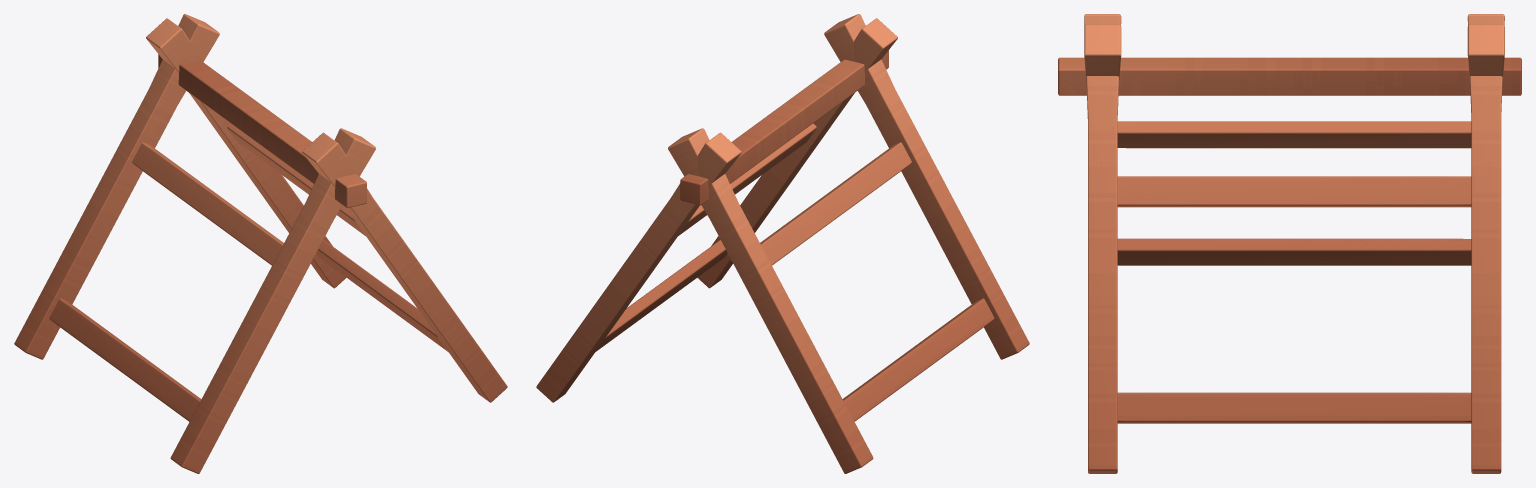
Rendered from tent.glb.
3 views of the same model, side by side, from view 1: azimuth 30°, elevation 25°; view 2: azimuth 150°, elevation 25°; view 3: azimuth 270°, elevation 25° (orthographic). The views are drawn at different scales.
Parts seen in each view (by area): view 1: tent; view 2: tent; view 3: tent.
Boxes of the visible parts, x1,y1,x2,y2 form: tent: [14, 14, 507, 473]; tent: [536, 14, 1029, 473]; tent: [1058, 14, 1521, 473].
Bounding box in the file's own units: 0.5589 × 0.4894 × 0.561.
1 material, 1 textured.
